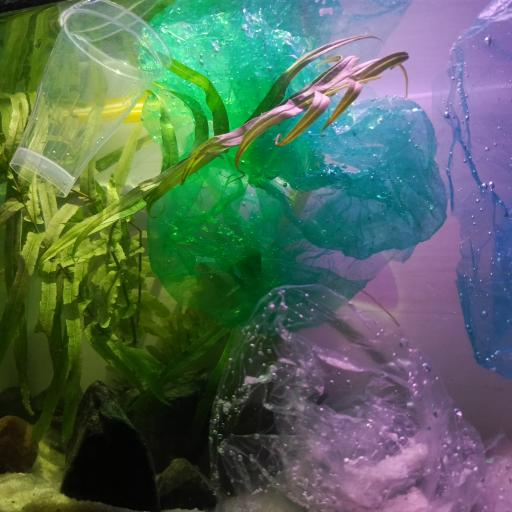plastic_bag: (139, 6, 448, 336), (207, 285, 512, 512), (441, 0, 512, 381)
plastic_cup: (12, 0, 171, 199)
